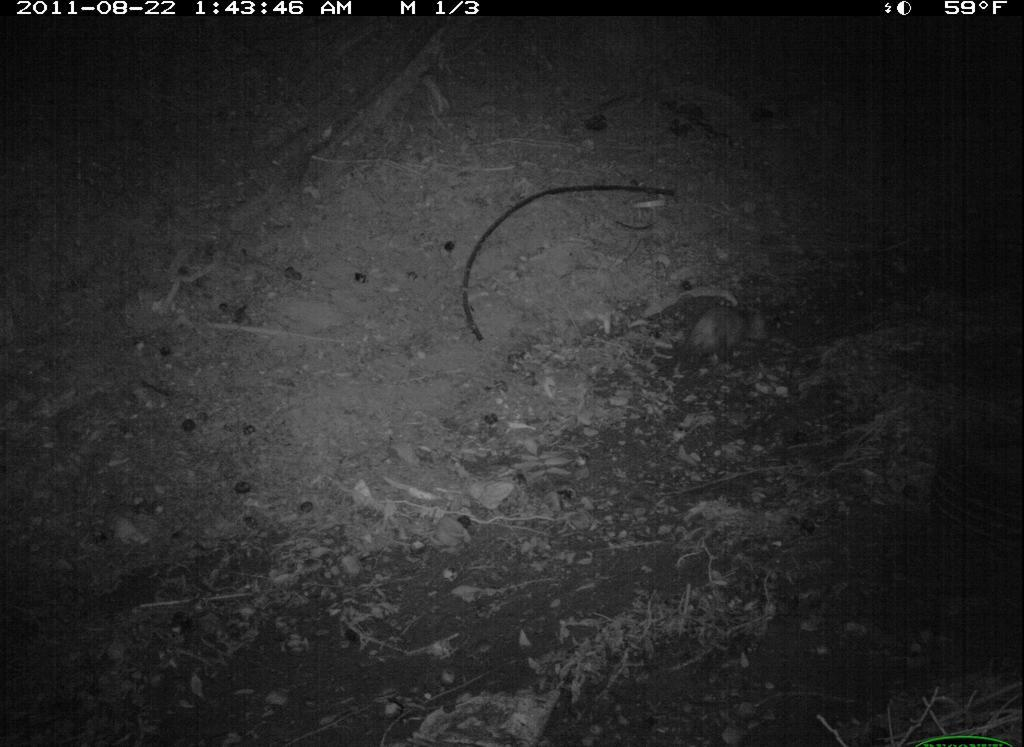opossum: (655, 292, 775, 386)
